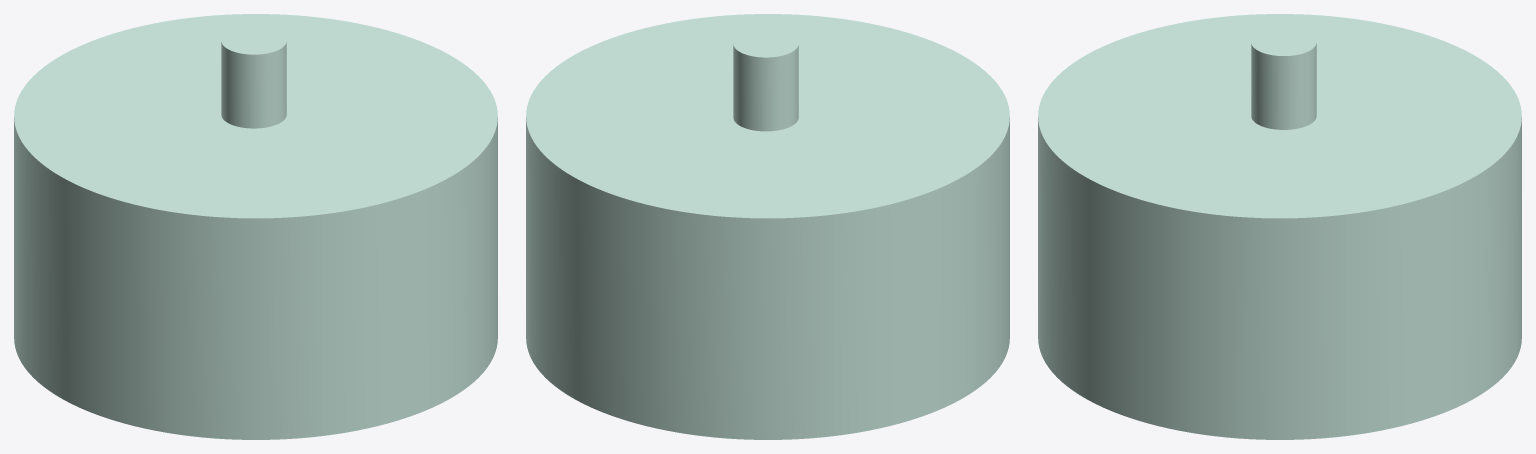
3 renders of one model, left to right at view 1: azimuth 30°, elevation 25°; view 2: azimuth 150°, elevation 25°; view 3: azimuth 270°, elevation 25°, orthographic.
Parts seen in each view (by area): view 1: Renderer Node; view 2: Renderer Node; view 3: Renderer Node.
Boxes of the visible parts, <box> form: Renderer Node: <box>14,14,497,439</box>; Renderer Node: <box>526,14,1009,439</box>; Renderer Node: <box>1038,14,1521,439</box>.
Bounding box in the file's own units: 1.11 × 0.75 × 1.11.
